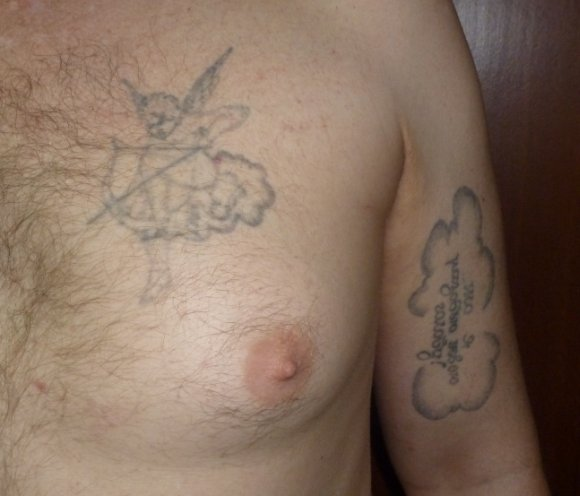tatu1_angel: (99, 50, 280, 250)
